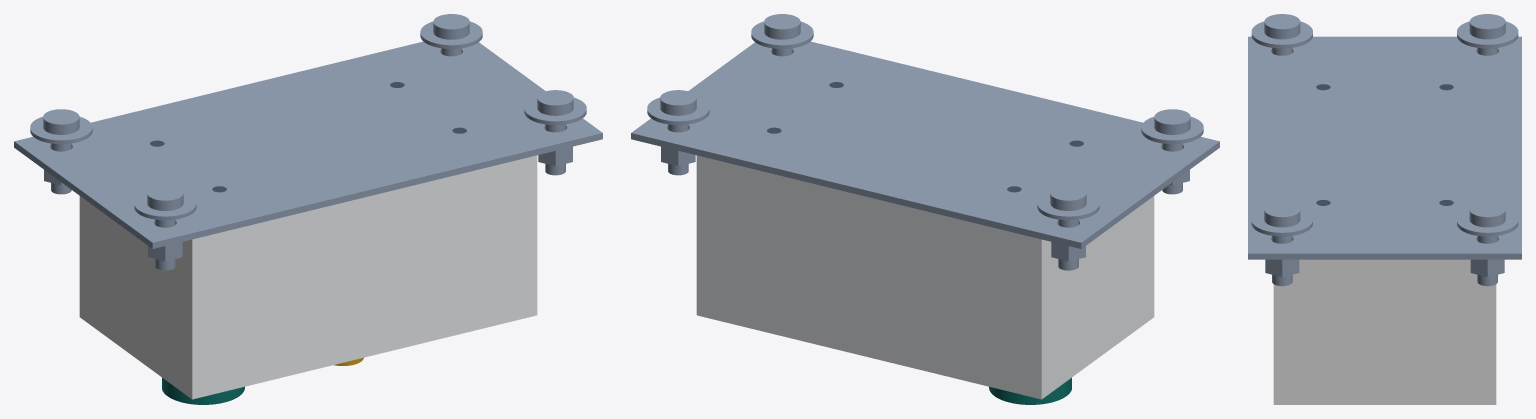
The picture shows the model from 3 angles, left to right: view 1: azimuth 30°, elevation 25°; view 2: azimuth 150°, elevation 25°; view 3: azimuth 270°, elevation 25°; orthographic projection.
Visible parts, largest first — view 1: Enclosure, IP67 ABS or PC, Aluminium bracket plate and tamper bolts, Ultrasonic transducer and driver; view 2: Enclosure, IP67 ABS or PC, Aluminium bracket plate and tamper bolts, Ultrasonic transducer and driver; view 3: Aluminium bracket plate and tamper bolts, Enclosure, IP67 ABS or PC, Box fixings: studs, standoffs, seals, screws.
Part boxes in pixels (x1=…): Enclosure, IP67 ABS or PC: x1=79, y1=155, x2=537, y2=399; Aluminium bracket plate and tamper bolts: x1=14, y1=14, x2=602, y2=270; Ultrasonic transducer and driver: x1=162, y1=377, x2=244, y2=404; Enclosure, IP67 ABS or PC: x1=696, y1=155, x2=1154, y2=399; Aluminium bracket plate and tamper bolts: x1=631, y1=14, x2=1219, y2=270; Ultrasonic transducer and driver: x1=989, y1=377, x2=1071, y2=404; Aluminium bracket plate and tamper bolts: x1=1248, y1=14, x2=1521, y2=286; Enclosure, IP67 ABS or PC: x1=1273, y1=259, x2=1496, y2=404; Box fixings: studs, standoffs, seals, screws: x1=1316, y1=84, x2=1453, y2=205.
Size of the model in its own units: 0.15 by 0.081 by 0.08.
